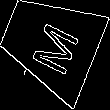M_NW: (21, 12, 79, 75)
